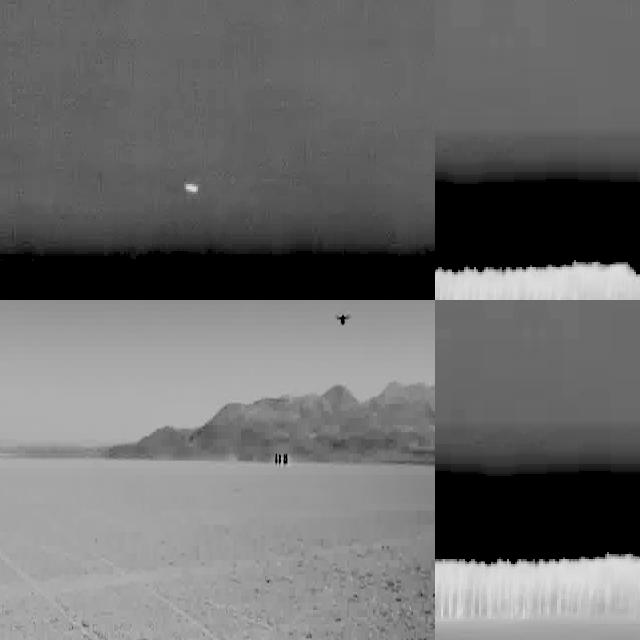1: (181, 180, 211, 200)
drone: (334, 303, 352, 333)
